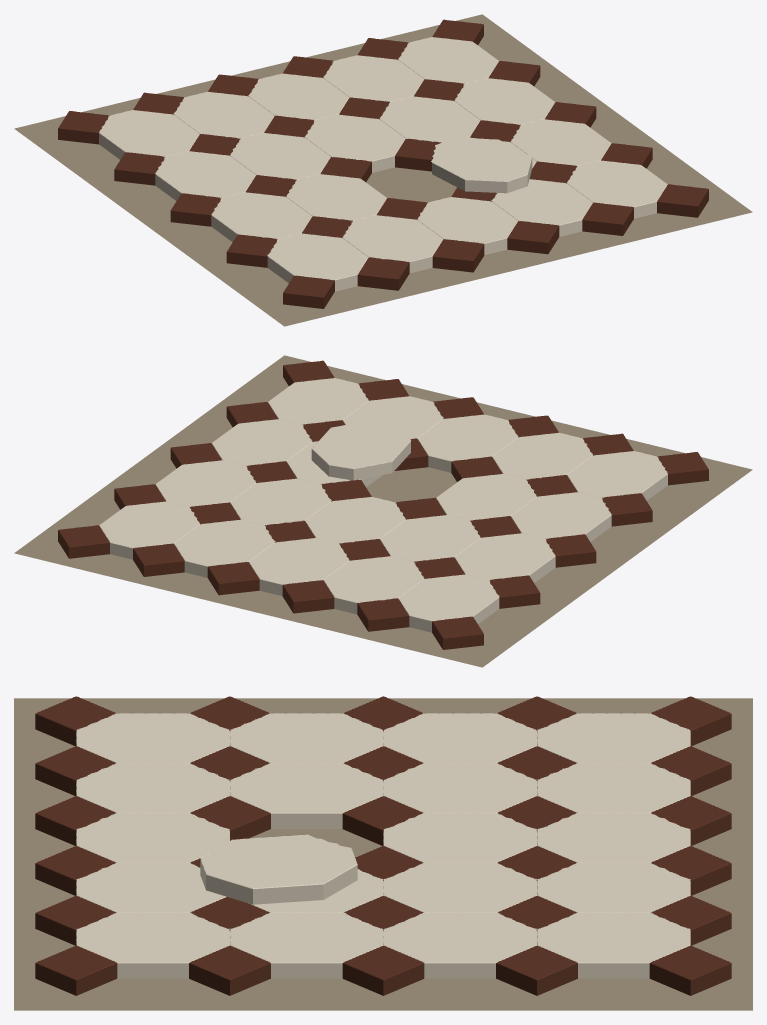
File: terilgan.glb
3 views of the same model, one above another, from view 1: azimuth 30°, elevation 25°; view 2: azimuth 150°, elevation 25°; view 3: azimuth 270°, elevation 25° (orthographic). The views are drawn at different scales.
Parts seen in each view (by area): view 1: qum, t.026, t.006, t.015, t.010, t.008, t.024, t.012, t.028, t.042, t.033, t.046 (+37 smaller); view 2: qum, t.026, t.012, t.021, t.008, t.024, t.010, t.030, t.039, t.006, t.048, t.037 (+38 smaller); view 3: qum, t.026, t.046, t.048, t.042, t.044, t.017, t.012, t.006, t.010, t.008, t.019 (+38 smaller).
Boxes of the visible parts, x1,y1,x2,y2 form: qum: [14, 14, 752, 326]; t.026: [431, 137, 532, 193]; t.006: [267, 233, 368, 291]; t.015: [342, 215, 443, 273]; t.010: [155, 151, 256, 200]; t.008: [211, 192, 312, 241]; t.024: [417, 197, 517, 255]; t.012: [99, 110, 199, 159]; t.028: [305, 114, 405, 172]; t.042: [567, 160, 667, 218]; t.033: [491, 179, 592, 236]; t.046: [454, 78, 555, 124]; qum: [14, 355, 752, 667]; t.026: [311, 420, 411, 480]; t.012: [398, 574, 499, 632]; t.021: [323, 556, 424, 614]; t.008: [510, 492, 611, 541]; t.024: [417, 414, 518, 472]; t.010: [454, 533, 555, 582]; t.030: [249, 538, 349, 596]; t.039: [174, 519, 275, 577]; t.006: [567, 451, 667, 500]; t.048: [99, 501, 199, 559]; t.037: [230, 478, 331, 525]; qum: [14, 698, 752, 1010]; t.026: [200, 834, 357, 904]; t.046: [383, 912, 536, 978]; t.048: [537, 912, 690, 978]; t.042: [76, 912, 229, 978]; t.044: [230, 912, 383, 978]; t.017: [230, 763, 383, 828]; t.012: [537, 713, 690, 763]; t.006: [76, 713, 229, 763]; t.010: [383, 713, 536, 763]; t.008: [230, 713, 383, 763]; t.019: [383, 763, 536, 813].
Size of the model in its own units: 1.66 by 0.082 by 1.66.
